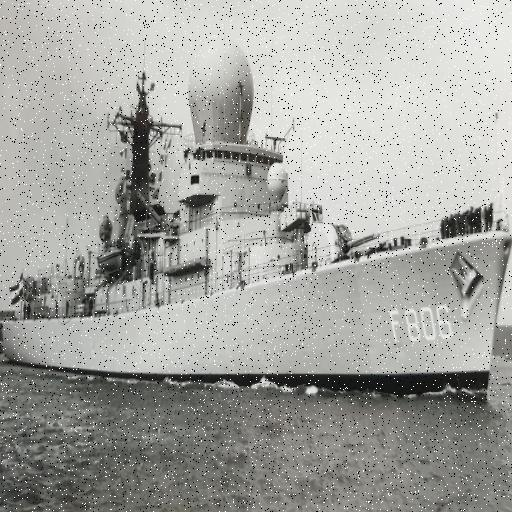Fragata: (1, 22, 512, 389)
